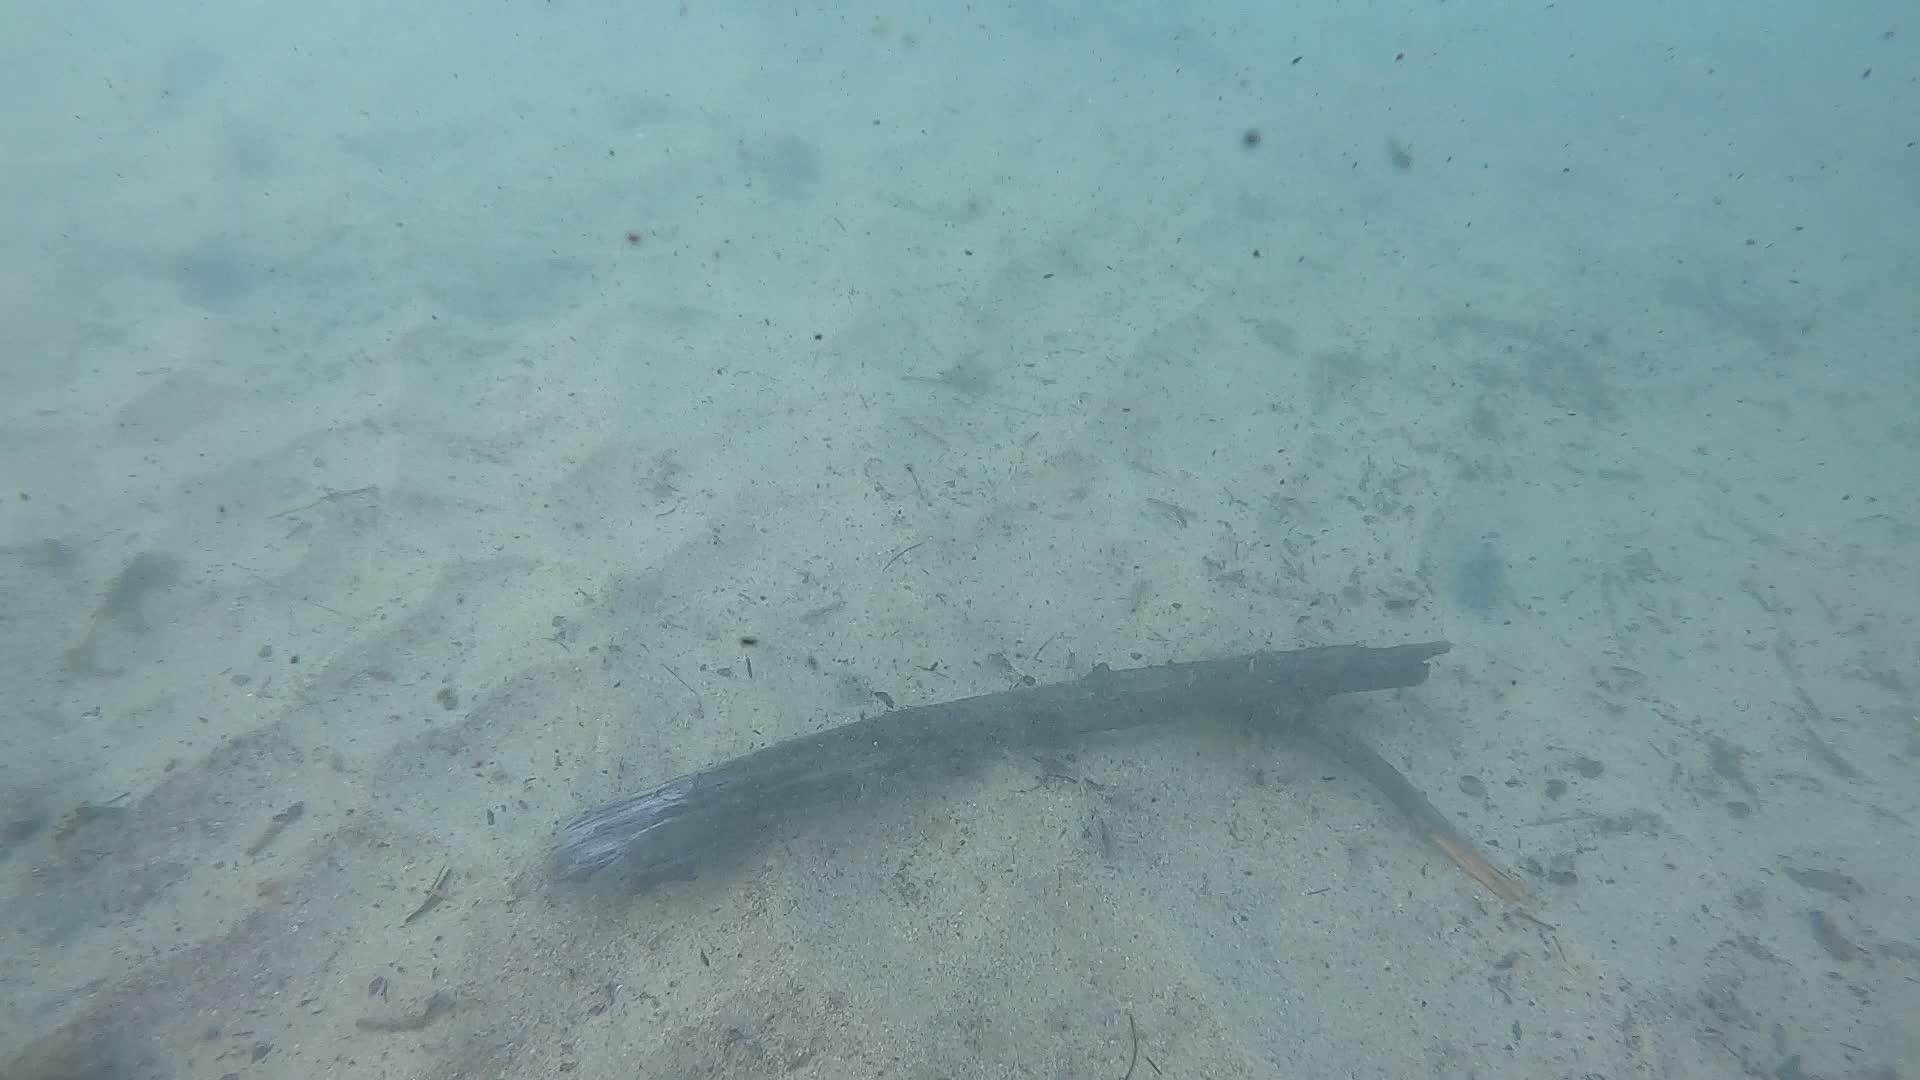wood: (546, 640, 1535, 909)
